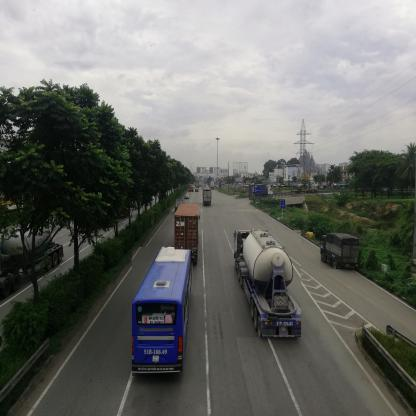bus: (133, 248, 194, 377)
car: (185, 194, 191, 199)
container: (176, 206, 199, 251), (250, 186, 274, 200)
truck: (235, 232, 302, 339), (2, 230, 61, 276), (322, 234, 360, 270), (204, 192, 214, 209)
